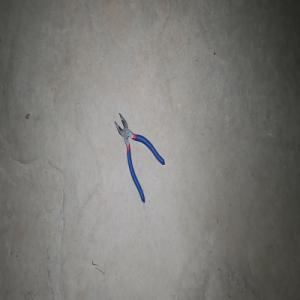Pliers: (114, 112, 165, 203)
